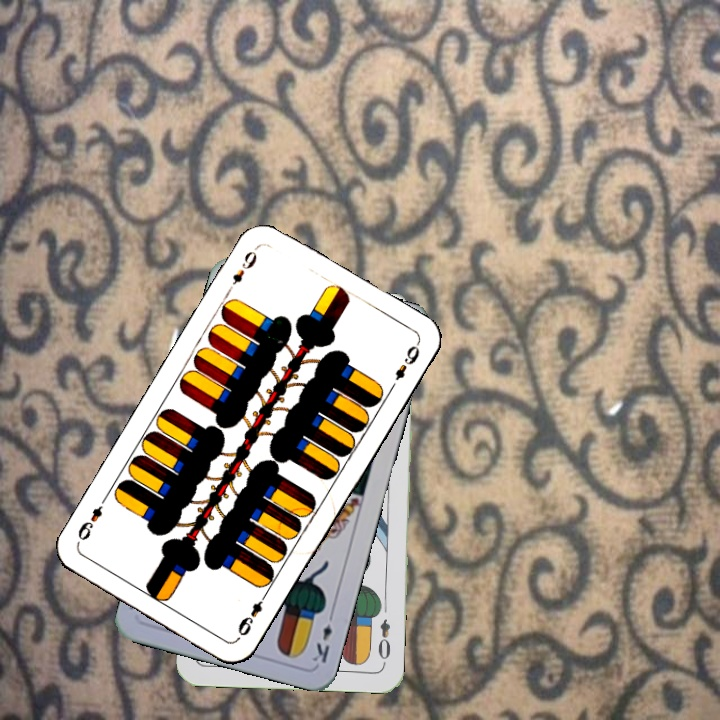E9: (222, 243, 261, 296), (233, 588, 271, 639)
EK: (308, 607, 337, 666)
EO: (373, 615, 393, 667)
